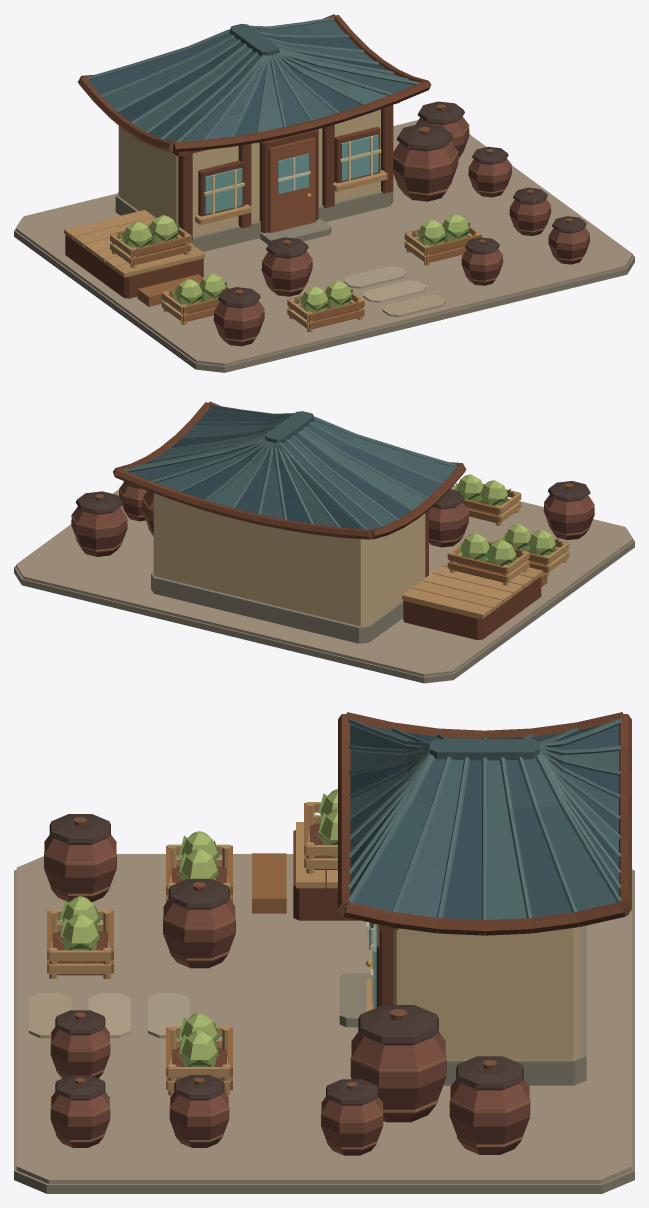
The picture shows the model from 3 angles, top to bottom: view 1: azimuth 30°, elevation 25°; view 2: azimuth 150°, elevation 25°; view 3: azimuth 270°, elevation 25°; orthographic projection. The views are drawn at different scales.
Visible parts, largest first — view 1: Base, Staff09, Staff05, Staff07, Staff06, Staff03, Staff10, Staff04, Staff08; view 2: Base, Staff07, Staff09, Staff03, Staff05; view 3: Base, Staff05, Staff07, Staff09, Staff06, Staff08, Staff04, Staff10, Staff03.
Boxes of the visible parts, <box> form: Base: <box>14,14,634,372</box>; Staff09: <box>287,280,364,332</box>; Staff05: <box>261,237,312,296</box>; Staff07: <box>213,287,264,346</box>; Staff06: <box>404,214,482,265</box>; Staff03: <box>161,273,231,324</box>; Staff10: <box>461,237,503,285</box>; Staff04: <box>509,187,551,235</box>; Staff08: <box>548,216,590,264</box>; Base: <box>14,401,634,683</box>; Staff07: <box>543,481,594,540</box>; Staff09: <box>451,474,521,525</box>; Staff03: <box>497,524,569,575</box>; Staff05: <box>429,489,468,547</box>; Base: <box>14,712,634,1193</box>; Staff05: <box>163,879,235,968</box>; Staff07: <box>44,814,116,902</box>; Staff09: <box>47,896,113,978</box>; Staff06: <box>166,1013,232,1095</box>; Staff08: <box>50,1075,110,1147</box>; Staff04: <box>169,1075,229,1147</box>; Staff10: <box>50,1010,110,1078</box>; Staff03: <box>166,831,232,902</box>.
Bounding box in the file's own units: 9 × 3.47 × 7.2.
